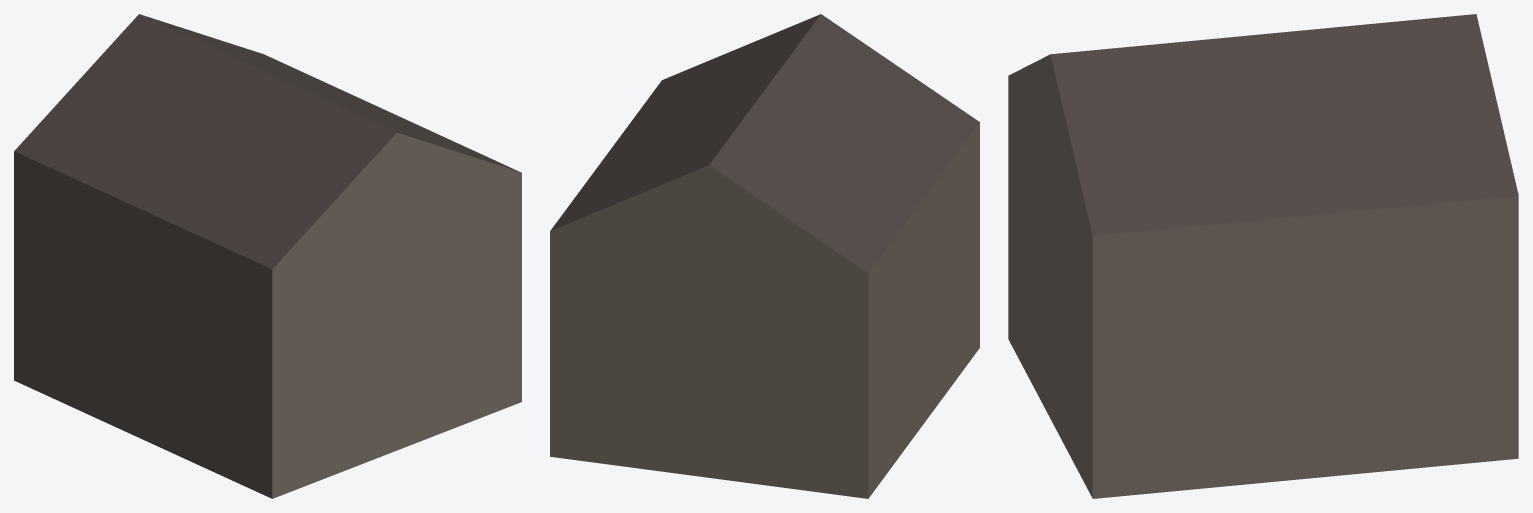
3 renders of one model, left to right at view 1: azimuth 30°, elevation 25°; view 2: azimuth 150°, elevation 25°; view 3: azimuth 270°, elevation 25°, orthographic. The views are drawn at different scales.
Visible parts, largest first — view 1: HP-w1376988816; view 2: HP-w1376988816; view 3: HP-w1376988816.
Part boxes in pixels (<box>): HP-w1376988816: <box>14,14,521,498</box>; HP-w1376988816: <box>550,14,979,498</box>; HP-w1376988816: <box>1008,14,1518,498</box>.
Bounding box in the file's own units: 9.82 × 8.32 × 10.57.
